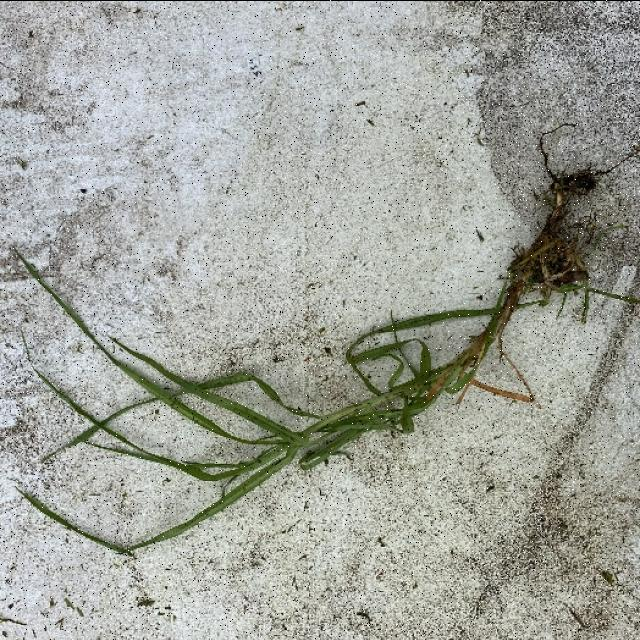organik: (19, 156, 596, 546)
